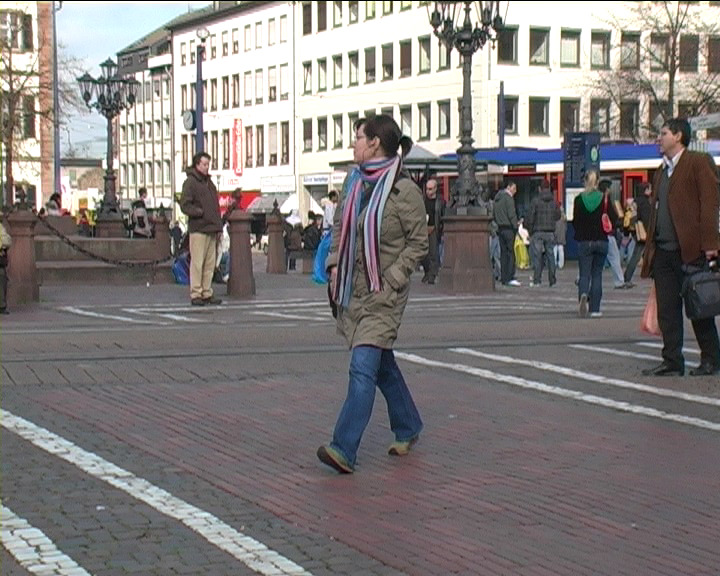deflection: (333, 116, 421, 232)
